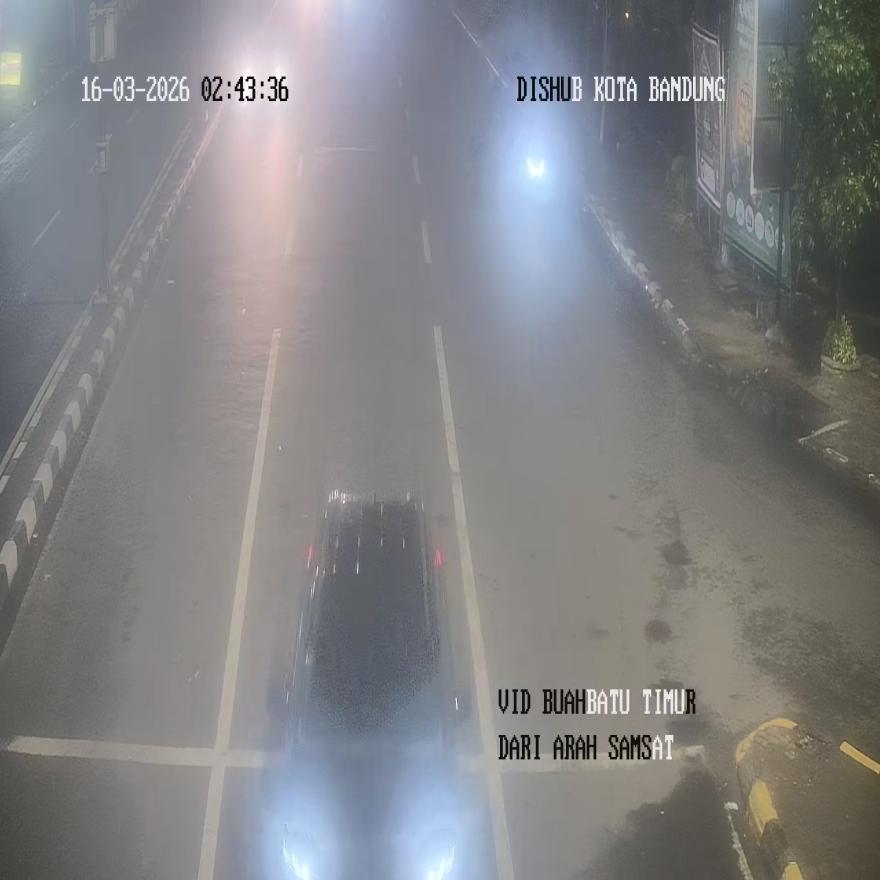Motor: (278, 488, 463, 878)
